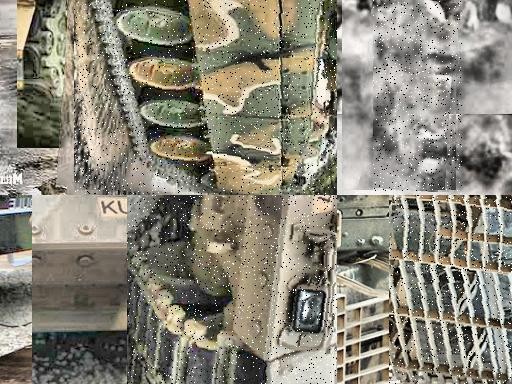tanks: (92, 1, 338, 195), (128, 196, 338, 384), (390, 196, 512, 384), (374, 1, 462, 192)
